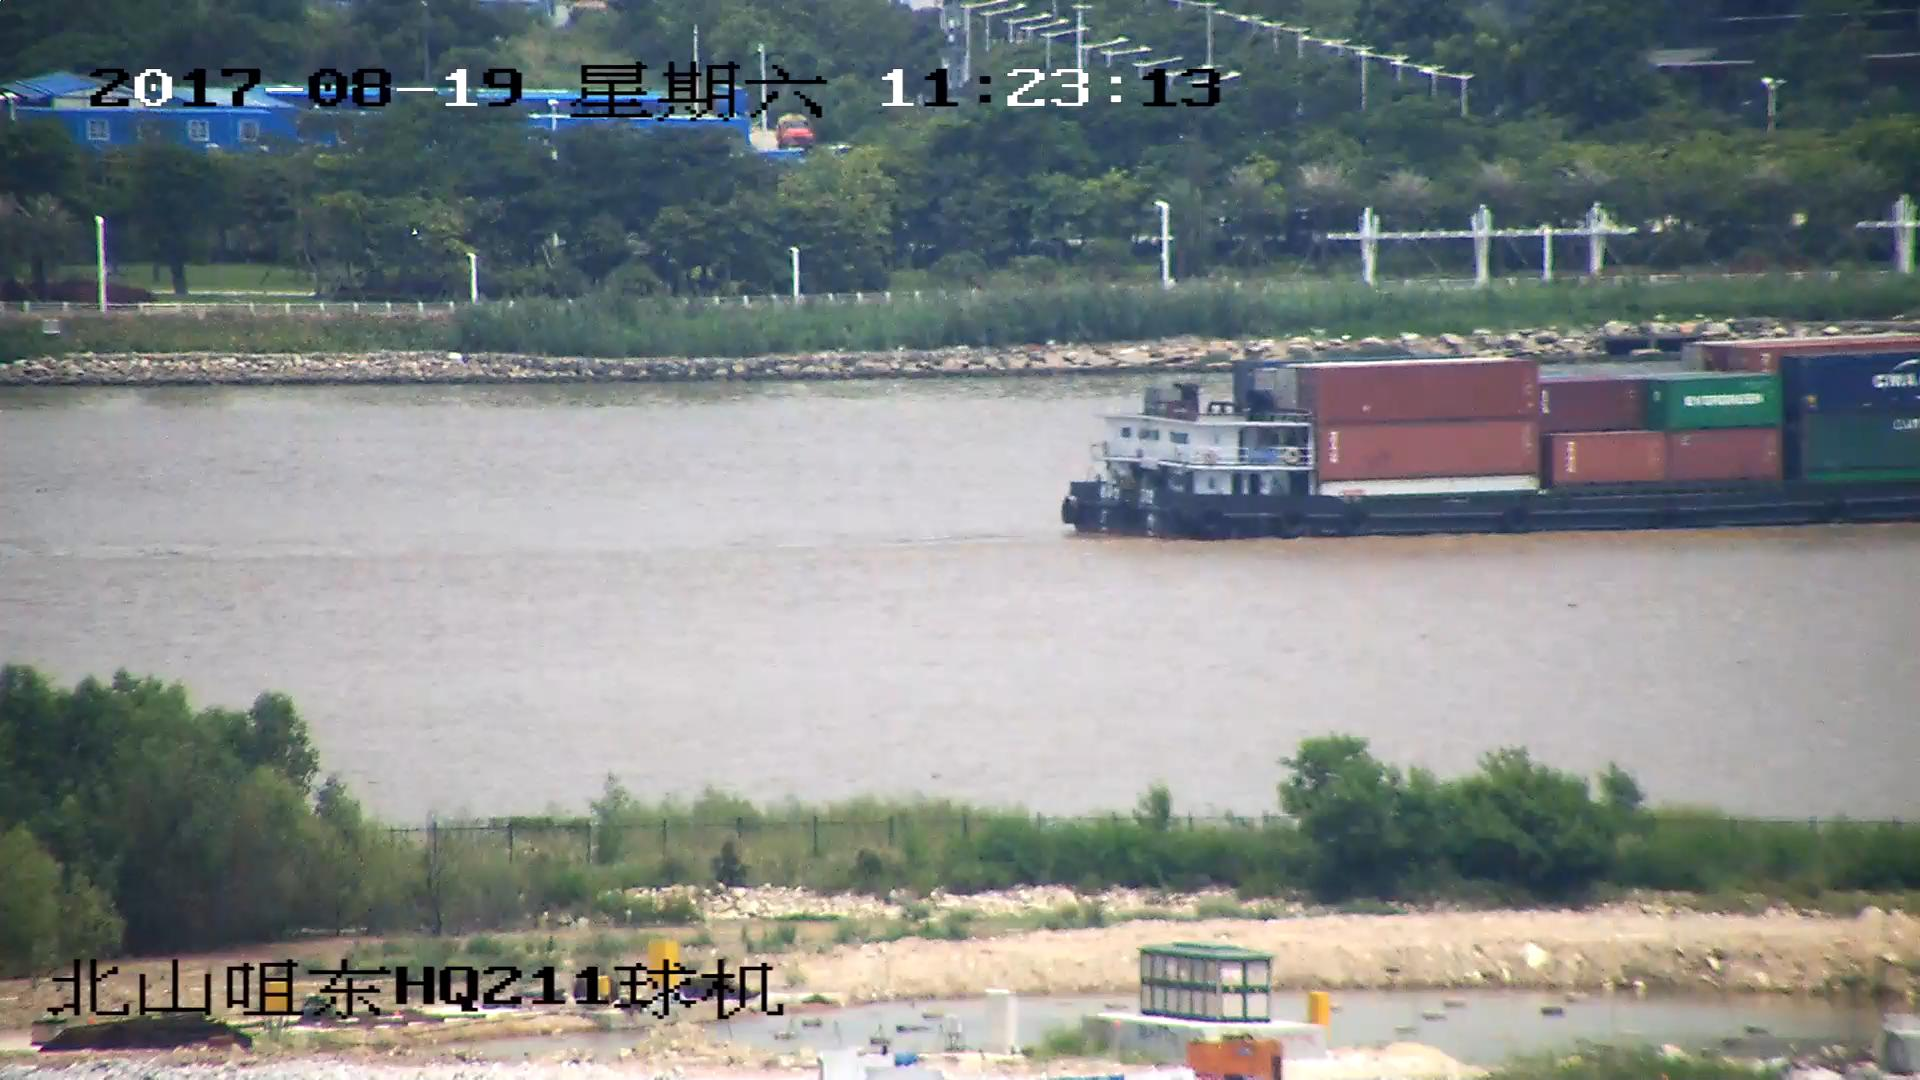container ship: (1059, 340, 1920, 532)
